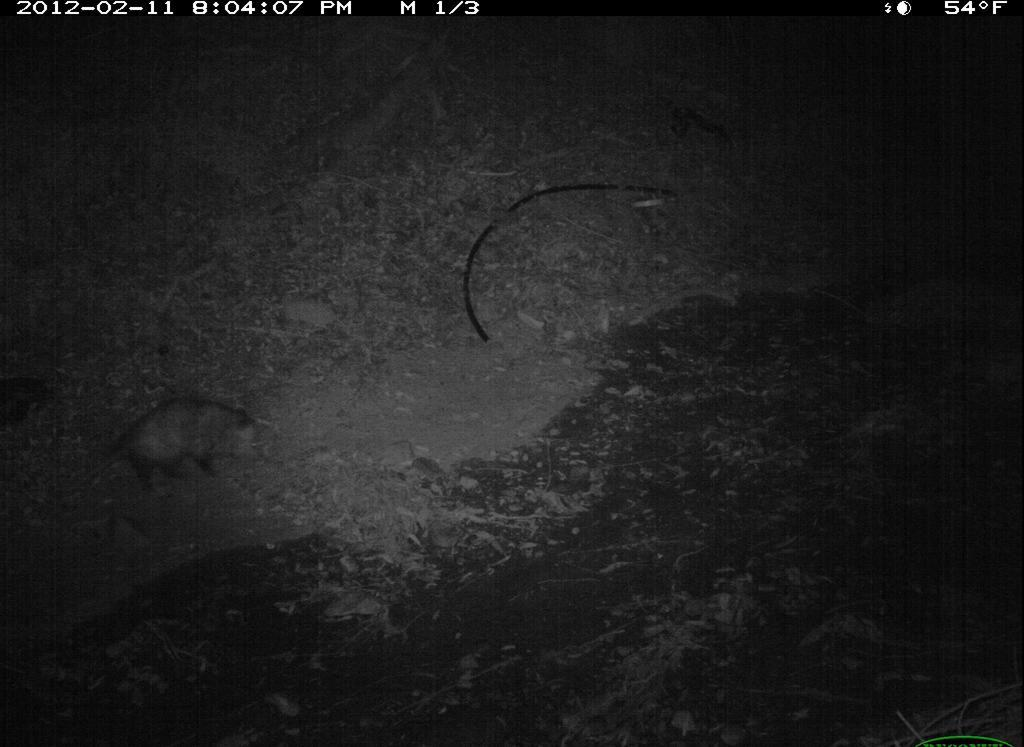opossum: (62, 393, 276, 504)
